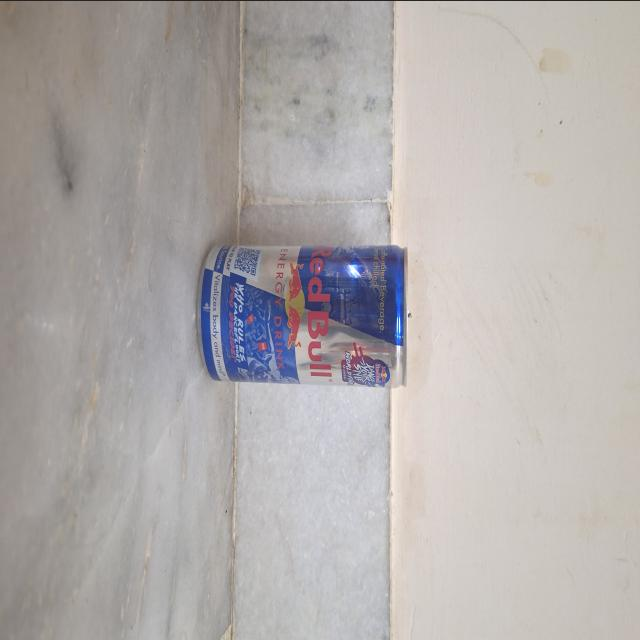Redbull DanceYourStyle: (197, 229, 414, 397)
